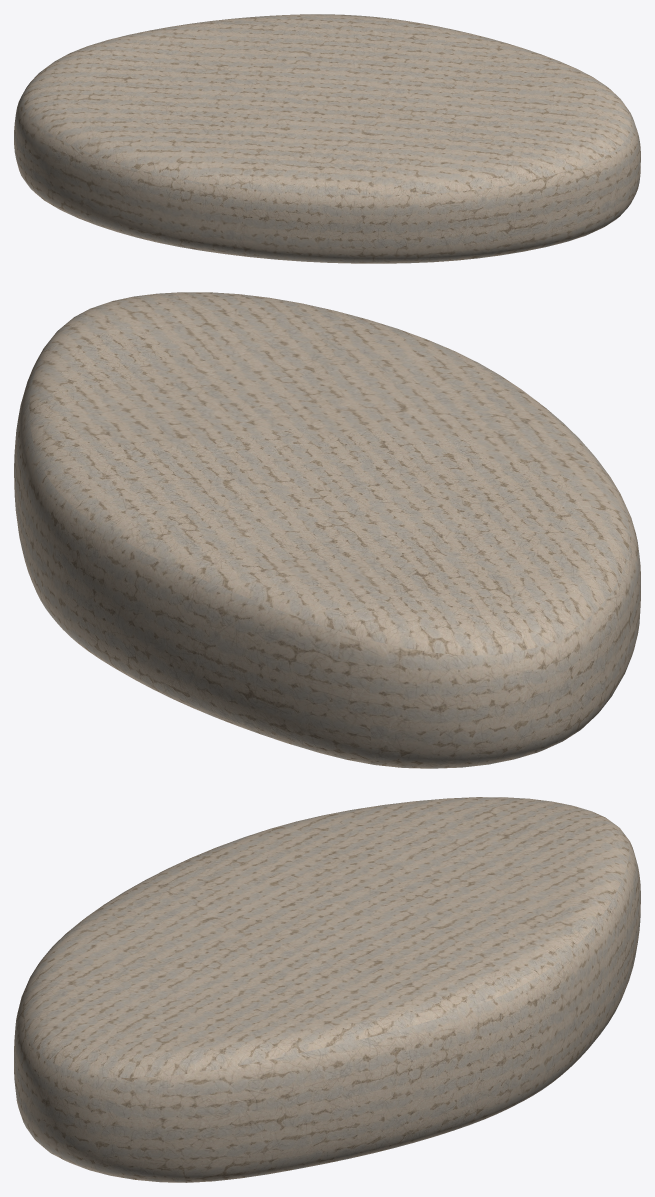
The model's file is levante_footstool.gltf.
The picture shows the model from 3 angles, top to bottom: view 1: azimuth 30°, elevation 25°; view 2: azimuth 150°, elevation 25°; view 3: azimuth 270°, elevation 25°; orthographic projection. The views are drawn at different scales.
Parts seen in each view (by area): view 1: footstool; view 2: footstool; view 3: footstool.
Part boxes in pixels (x1,y1,x2,y2): footstool: (14, 14, 640, 263); footstool: (14, 292, 640, 768); footstool: (14, 797, 640, 1182).
Bounding box in the file's own units: 0.997 × 0.215 × 0.8853.
Materials: 1 (1 with a texture image).
